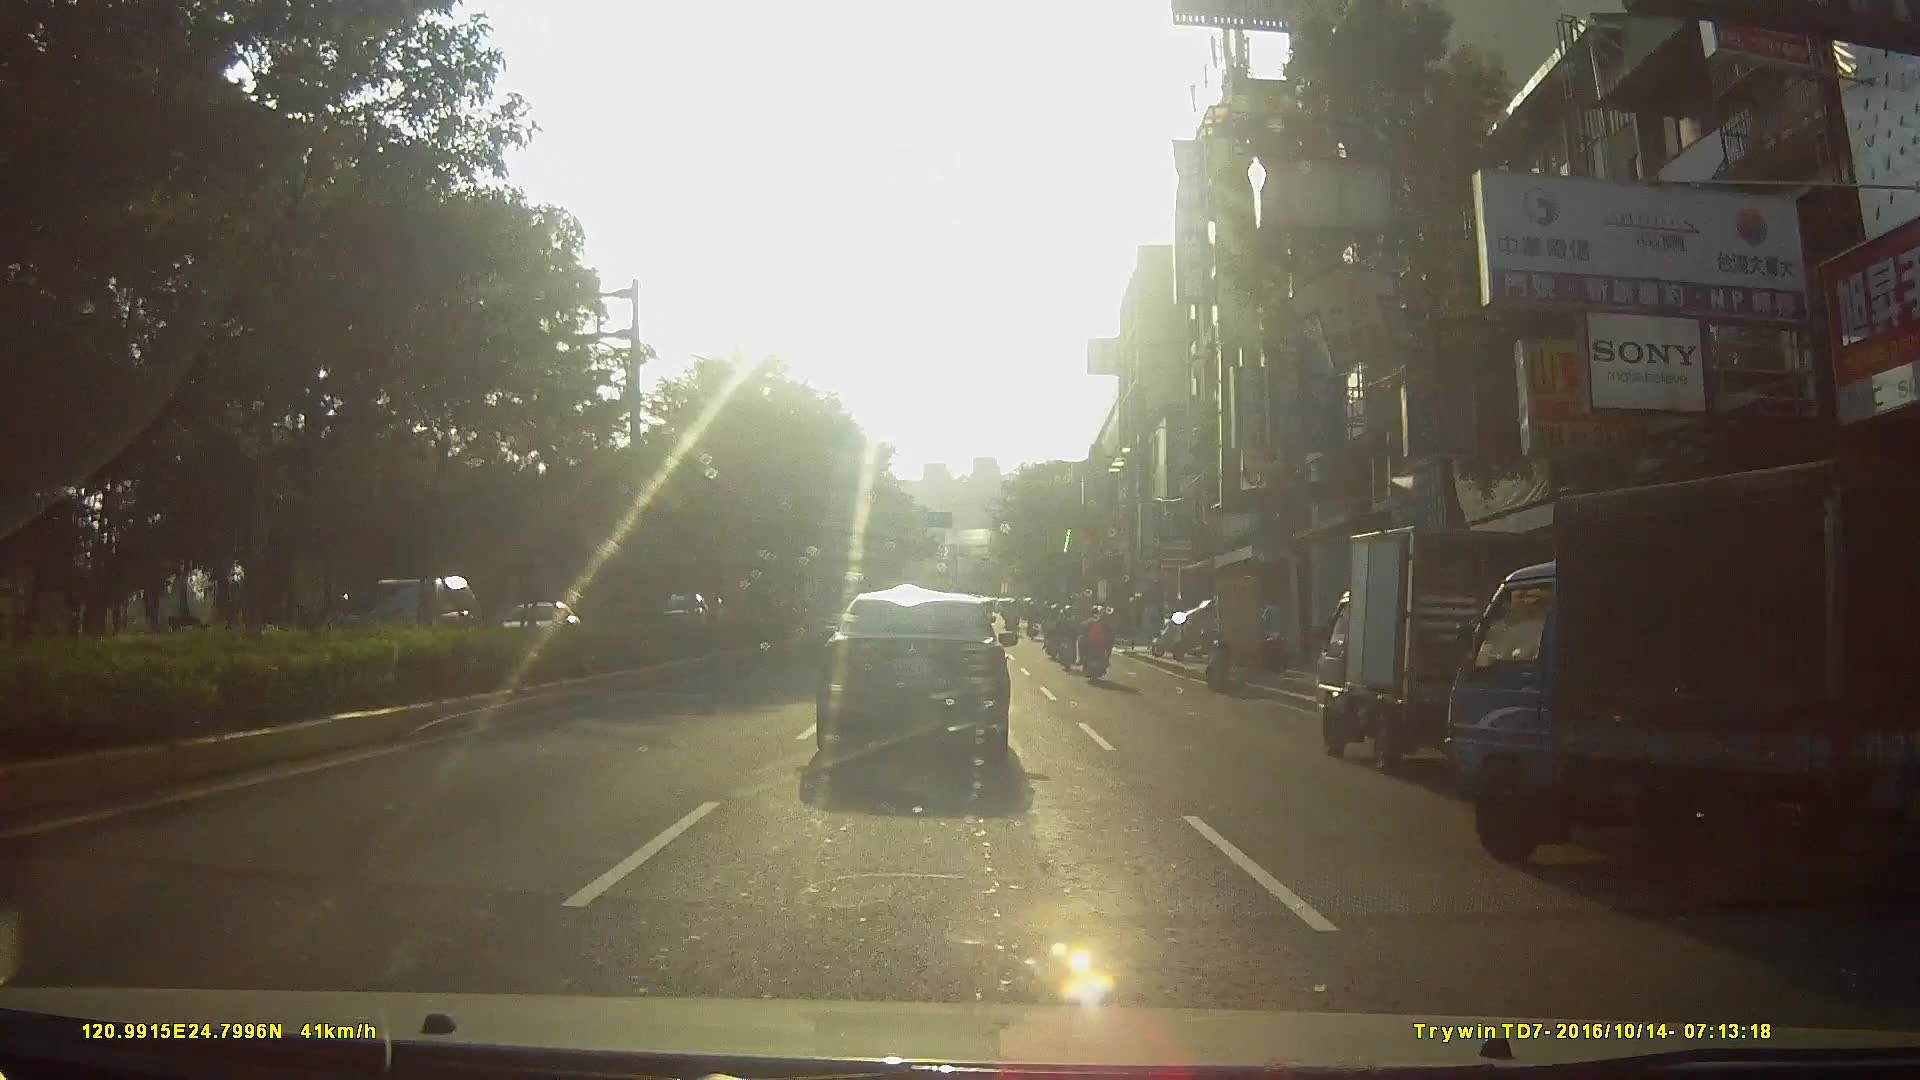rider: (1075, 604, 1116, 684), (1054, 604, 1081, 675), (1044, 606, 1064, 663)
vehicle: (1440, 453, 1920, 923), (1312, 512, 1600, 776), (811, 590, 1027, 787)
